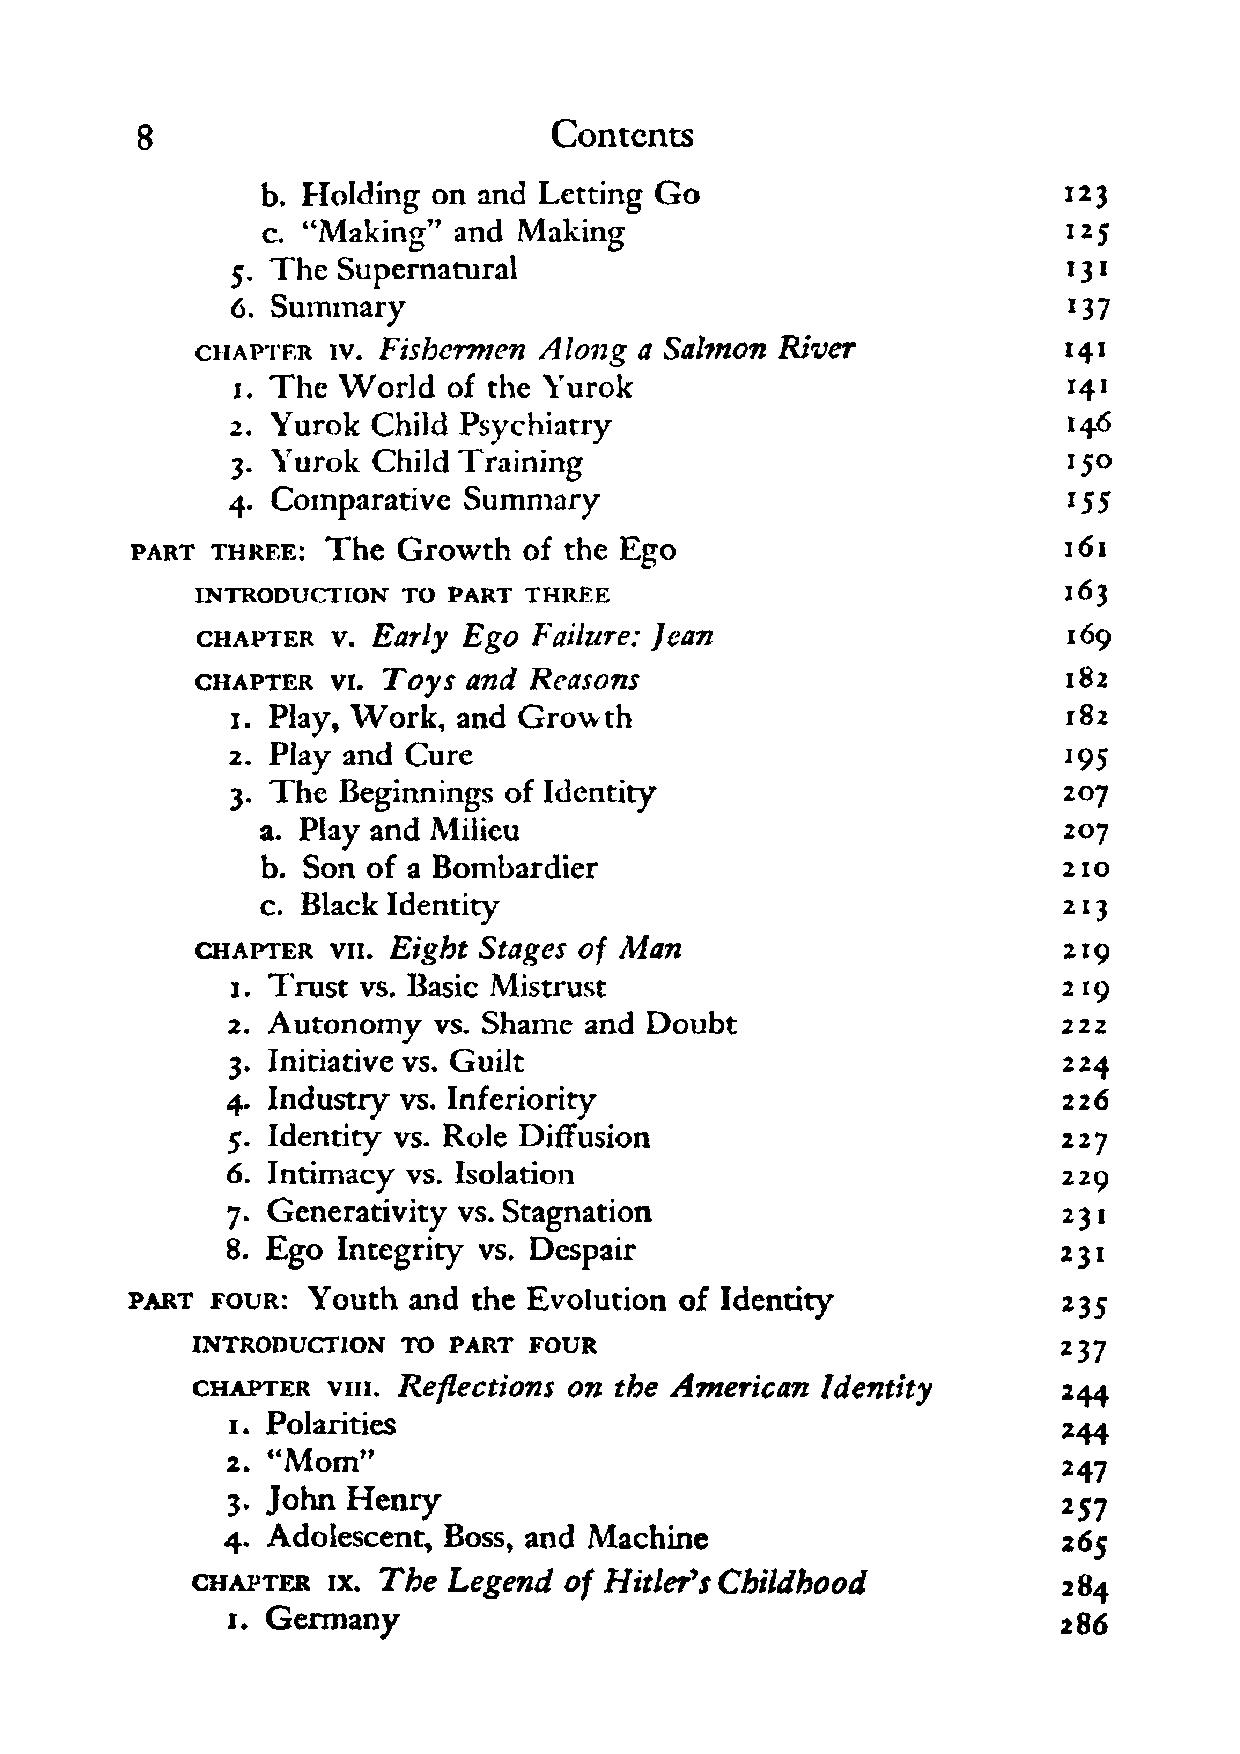TOC_chapter: (123, 1282, 841, 1322), (118, 527, 686, 570), (191, 1376, 933, 1408), (191, 336, 863, 369), (254, 168, 706, 213), (185, 1571, 872, 1600), (187, 619, 719, 652), (221, 1012, 739, 1045), (220, 404, 621, 446), (225, 776, 660, 813), (221, 1525, 713, 1557), (258, 213, 629, 255), (221, 1233, 636, 1270), (223, 698, 637, 733), (195, 663, 643, 695), (189, 935, 687, 964), (187, 1327, 603, 1361), (220, 1080, 599, 1117), (225, 968, 612, 1002), (220, 1197, 654, 1228), (228, 488, 609, 523), (225, 1125, 654, 1155), (225, 374, 648, 405), (220, 448, 588, 483), (185, 578, 617, 608), (256, 849, 601, 884), (223, 1158, 582, 1190), (223, 256, 523, 289), (221, 735, 478, 770), (221, 1605, 419, 1645), (256, 891, 502, 923), (228, 1486, 440, 1520), (221, 1052, 527, 1076), (254, 820, 523, 845), (229, 290, 411, 325), (223, 1445, 373, 1475), (225, 1410, 399, 1435)
TOC_pagenumber: (1053, 1525, 1117, 1563), (1062, 166, 1118, 207), (1057, 927, 1113, 968), (1062, 615, 1115, 655), (1053, 890, 1111, 925), (1062, 738, 1110, 778), (1056, 1126, 1113, 1159), (1056, 1491, 1113, 1525), (1057, 574, 1111, 609), (1059, 972, 1110, 1008), (1057, 1377, 1113, 1410), (1056, 1455, 1115, 1486), (1059, 1051, 1113, 1084), (1053, 1202, 1111, 1233), (1062, 1286, 1108, 1323), (1062, 407, 1113, 440), (1057, 662, 1111, 692), (1062, 446, 1113, 478), (1066, 482, 1117, 514), (1057, 1236, 1107, 1268), (1059, 1335, 1108, 1368), (1062, 336, 1113, 366), (1062, 1571, 1113, 1602), (1064, 212, 1110, 246), (1062, 527, 1107, 561), (1062, 702, 1113, 731), (1062, 816, 1113, 845), (1062, 1165, 1113, 1194), (1062, 251, 1110, 282), (1062, 780, 1110, 811), (1059, 1418, 1108, 1448), (1059, 1087, 1115, 1113), (1064, 289, 1110, 319), (1062, 854, 1111, 882), (1062, 373, 1113, 399), (1059, 1016, 1113, 1040), (1062, 1610, 1108, 1637)
chapter: (539, 110, 702, 154)
